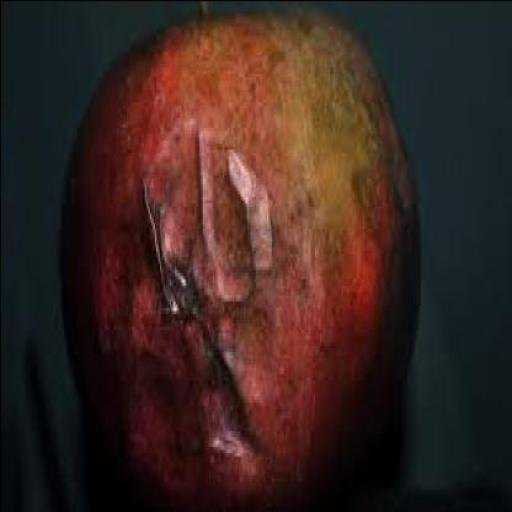biodegradable: (60, 7, 422, 509)
